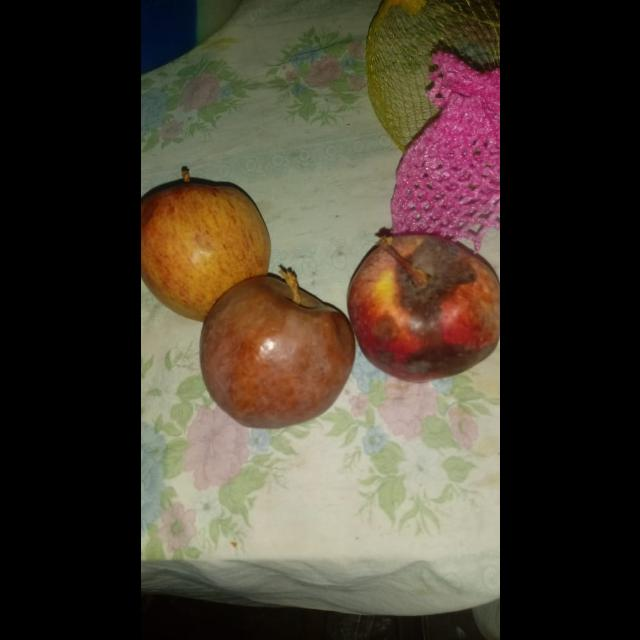Apel Tidak Segar: (194, 259, 374, 446), (344, 222, 500, 386), (140, 161, 282, 321)
